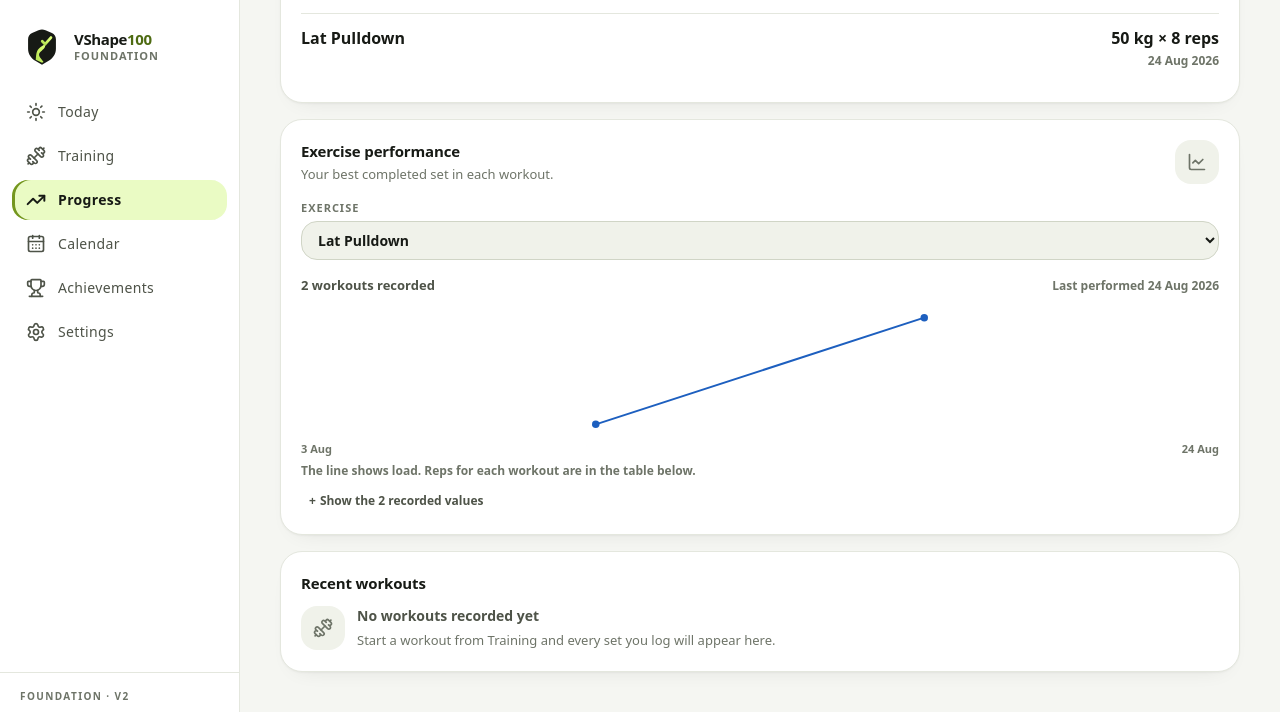
Test case: 2. exercise performance › lists every plotted workout as accessible data
The image size is (1280, 712).
(page scrolled)
Click the heading "+ Show the 2 recorded values" at (396, 500), box top-left (309, 492), bottom-right (484, 509)
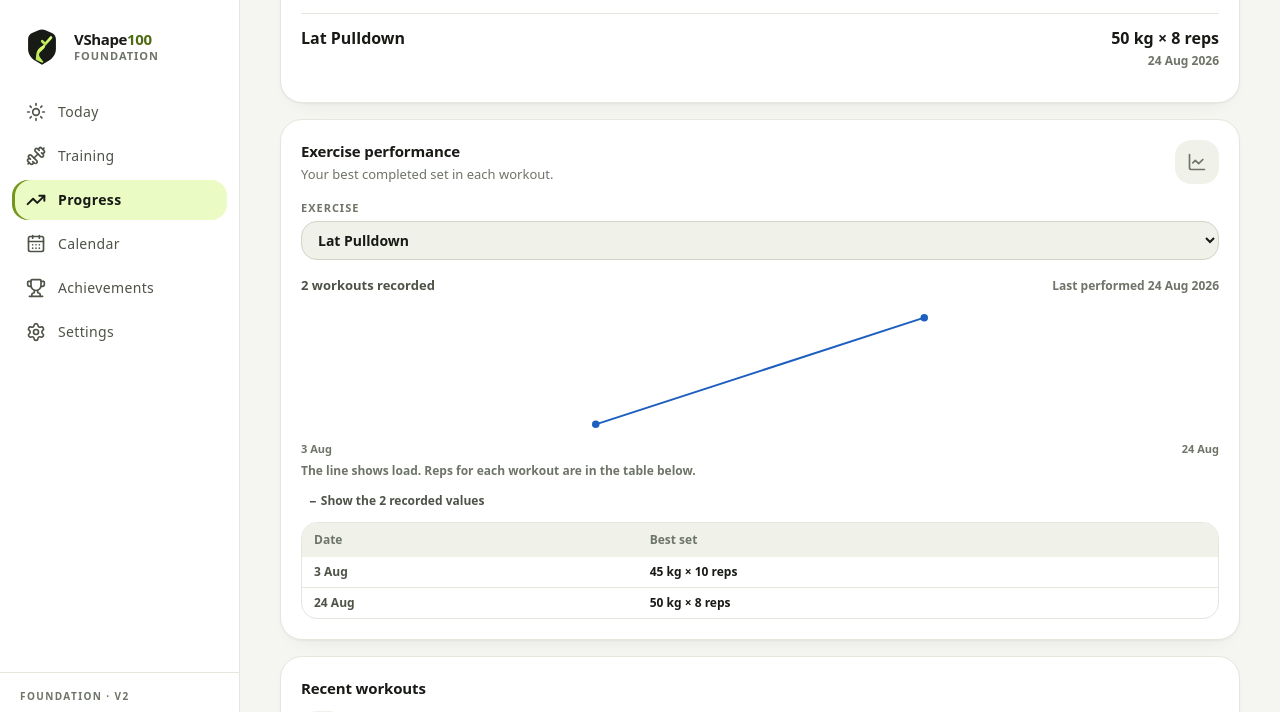
Check: the text "45 kg × 10 reps" is shown, box top-left (638, 557), bottom-right (1218, 587)
Check: the text "50 kg × 8 reps" is shown, box top-left (638, 587), bottom-right (1218, 618)
